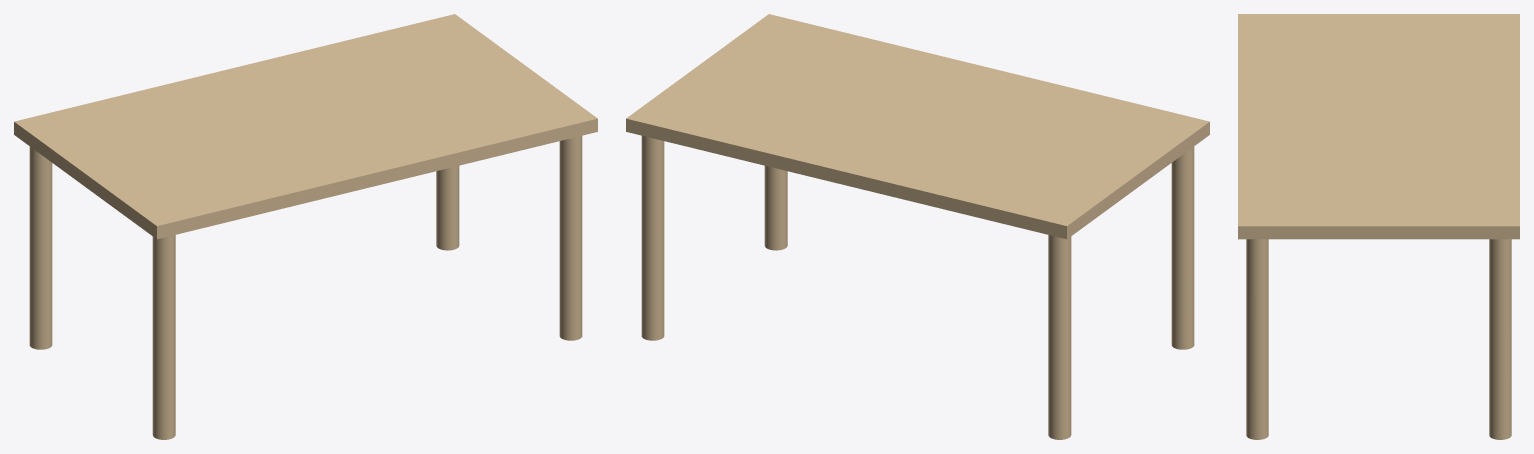
File: ikea-ingatorp-89932103-g2-proxy.glb
The picture shows the model from 3 angles, left to right: view 1: azimuth 30°, elevation 25°; view 2: azimuth 150°, elevation 25°; view 3: azimuth 270°, elevation 25°; orthographic projection.
Parts seen in each view (by area): view 1: proxy_body, leg (×4); view 2: proxy_body, leg (×4); view 3: proxy_body, leg (×2).
Boxes of the visible parts, left/top/right/bottom form: proxy_body: left=14, top=14, right=597, bottom=239; leg (×4): left=29, top=136, right=582, bottom=439; proxy_body: left=626, top=14, right=1209, bottom=239; leg (×4): left=641, top=136, right=1194, bottom=439; proxy_body: left=1238, top=14, right=1519, bottom=239; leg (×2): left=1246, top=239, right=1511, bottom=439.
Bounding box in the file's own units: 1.55 × 0.74 × 0.87.
